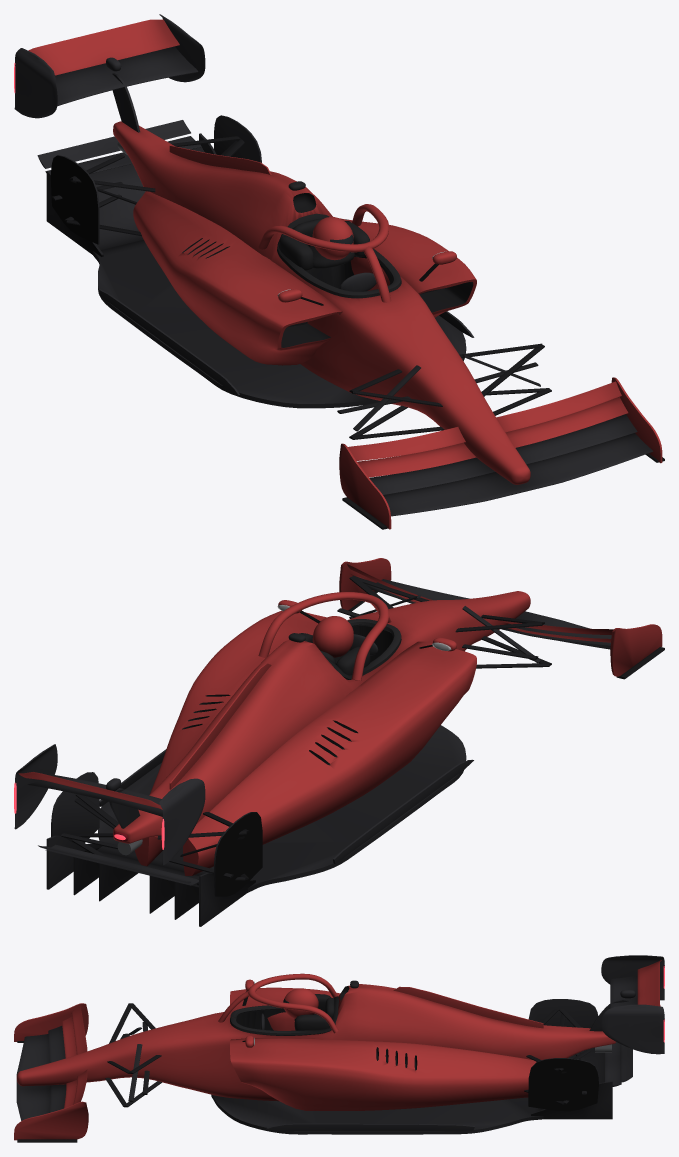
File: monoposto.m.glb
3 views of the same model, one above another, from view 1: azimuth 30°, elevation 25°; view 2: azimuth 150°, elevation 25°; view 3: azimuth 270°, elevation 25° (orthographic). The views are drawn at different scales.
Visible parts, largest first — view 1: paint_lodm, carbon_lodm, trim_lodm, grille_lodm, interior_lodm; view 2: paint_lodm, carbon_lodm, trim_lodm, grille_lodm; view 3: paint_lodm, carbon_lodm, trim_lodm, interior_lodm.
Boxes of the visible parts, left/top/right/bottom form: paint_lodm: left=28, top=19, right=662, bottom=529; carbon_lodm: left=14, top=14, right=664, bottom=529; trim_lodm: left=277, top=181, right=401, bottom=298; grille_lodm: left=182, top=193, right=473, bottom=347; interior_lodm: left=306, top=256, right=392, bottom=288; paint_lodm: left=18, top=558, right=662, bottom=875; carbon_lodm: left=14, top=575, right=664, bottom=926; trim_lodm: left=288, top=619, right=401, bottom=679; grille_lodm: left=182, top=694, right=357, bottom=765; paint_lodm: left=14, top=960, right=661, bottom=1140; carbon_lodm: left=16, top=955, right=664, bottom=1142; trim_lodm: left=230, top=980, right=358, bottom=1035; interior_lodm: left=236, top=1009, right=285, bottom=1030.
Size of what is drawn, in the model's own units: 1.9 by 0.9846 by 5.09.
